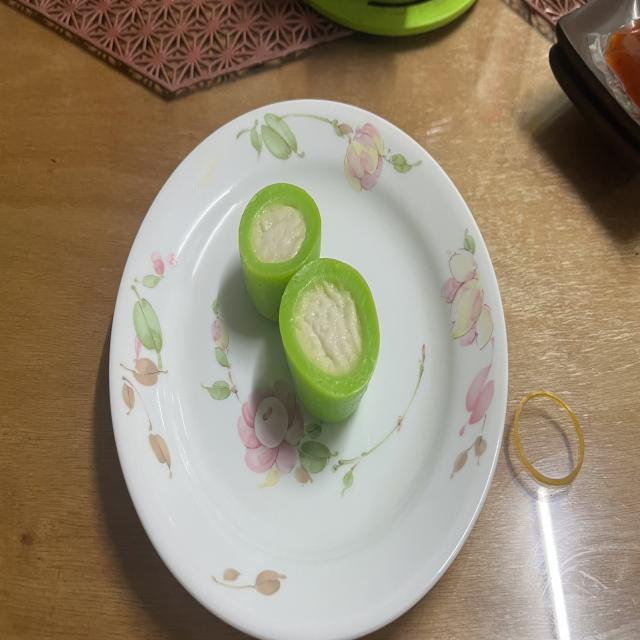nona-manis: (279, 258, 380, 422), (239, 182, 321, 320)
